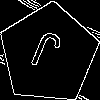J: (24, 29, 64, 81)
